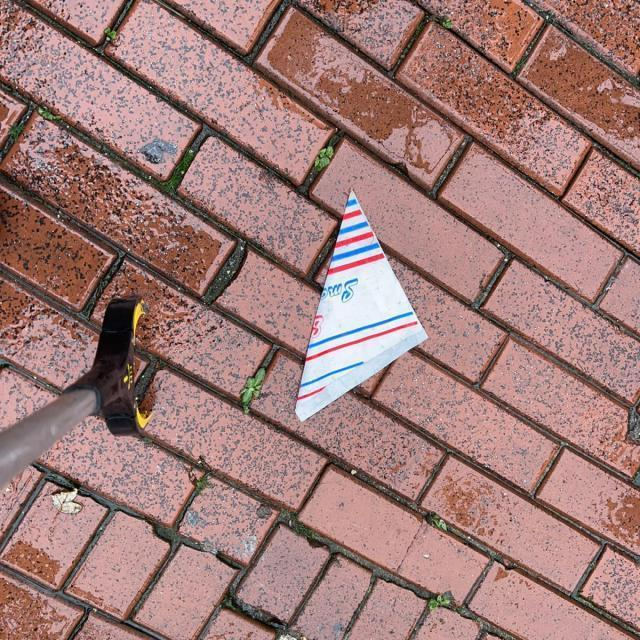Paper: (292, 184, 430, 423), (100, 115, 172, 198)
